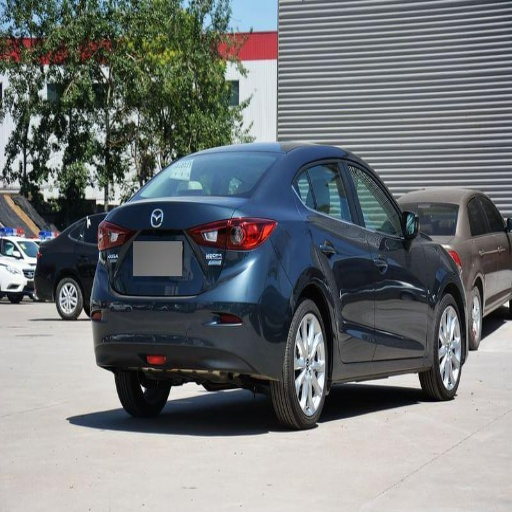_background_: (89, 248, 291, 377)
back_bumper: (145, 148, 279, 196)
back_left_door: (96, 220, 129, 261)
back_left_light: (307, 155, 374, 365)
back_right_door: (224, 220, 274, 270)
front_left_light: (348, 157, 430, 360)
right_mirror: (109, 197, 237, 298)
trunk: (273, 298, 331, 428), (425, 294, 465, 399), (116, 371, 169, 419)
